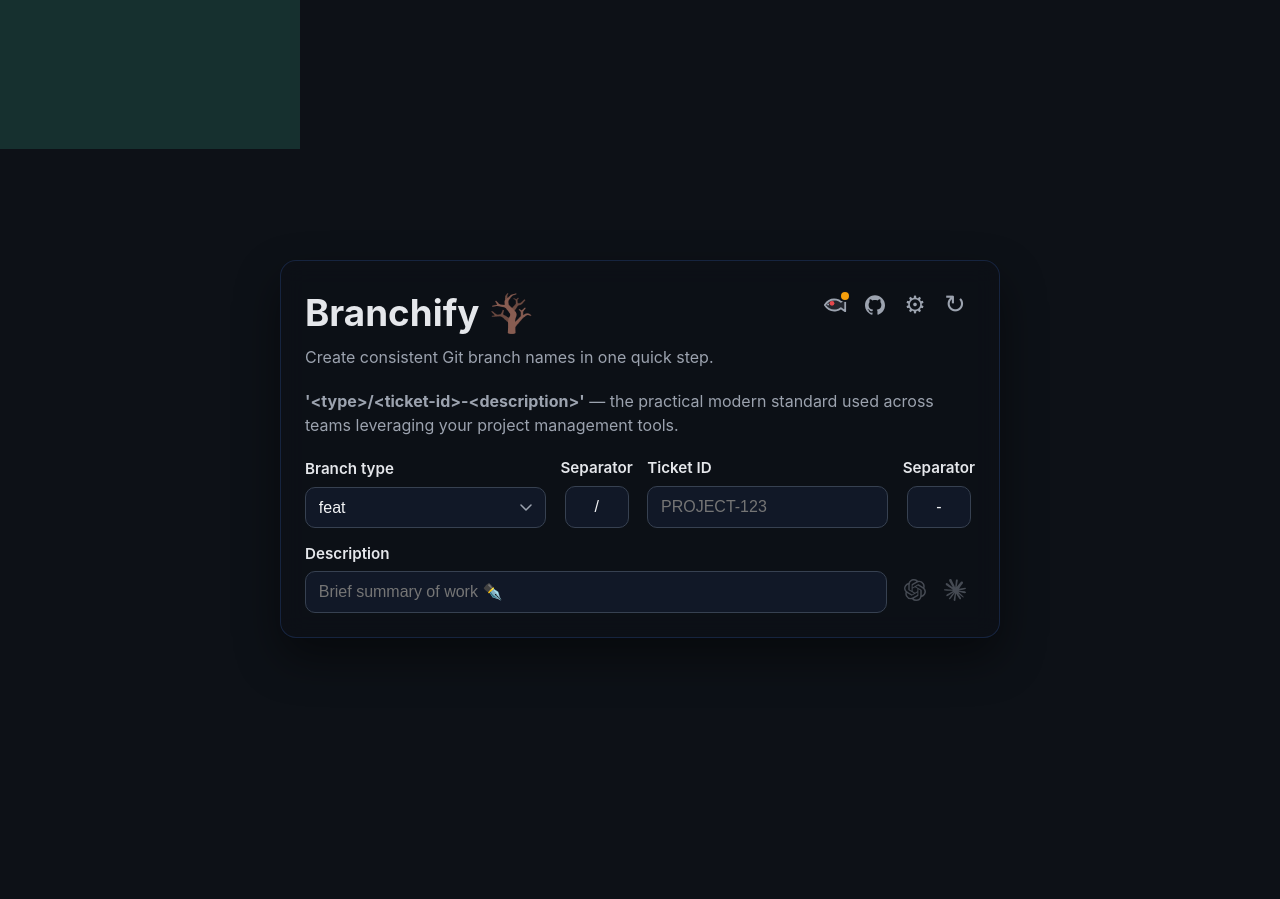
Scenario: App › loading recent branches › restores the separators used when the branch was saved
Replace the text in the 1st field labelled "Separator" with "_" at (597, 507), box [565,486,629,528]
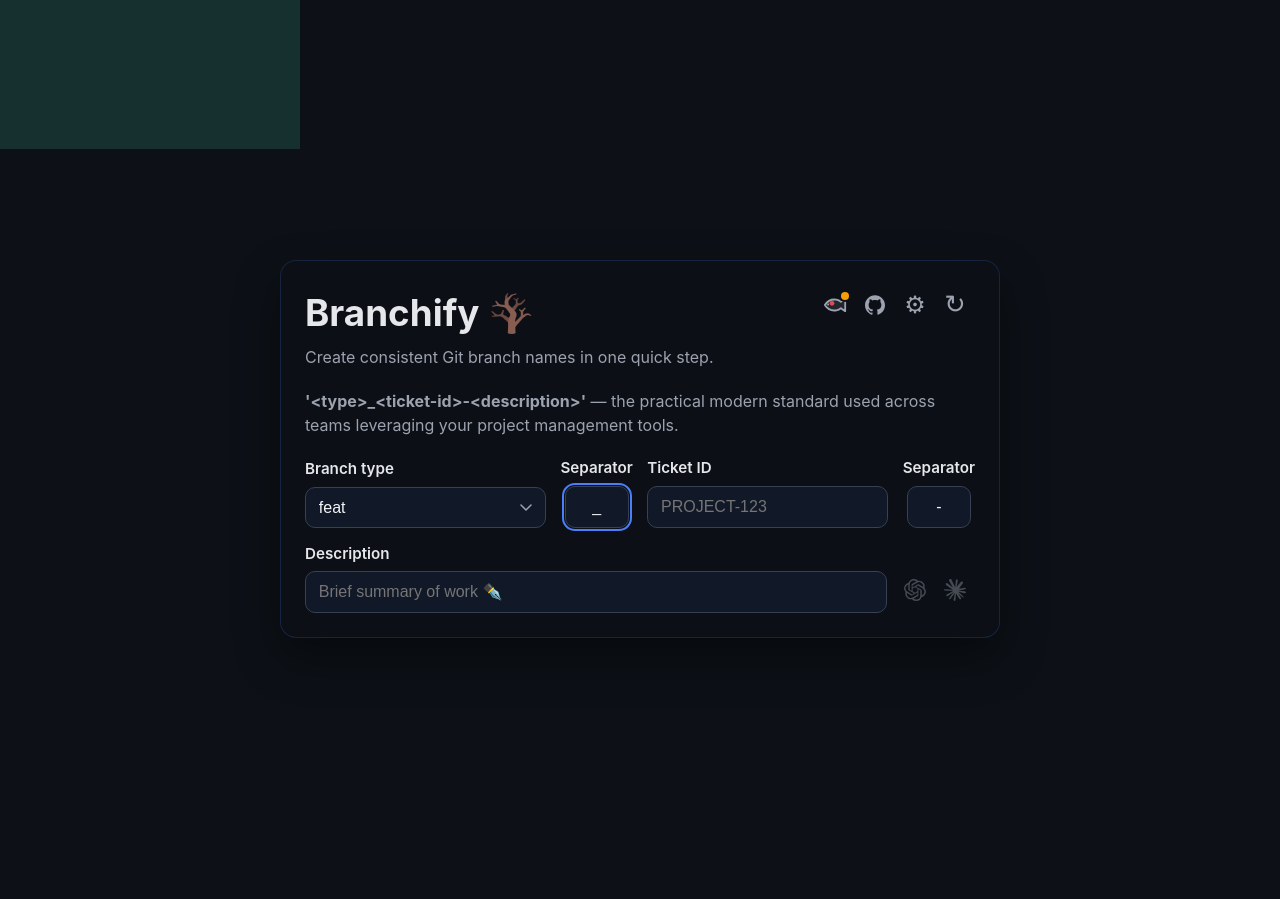
Type "Some work" into the field labelled "Description".
click(596, 592); type("Some work")  # box [305,571,887,613]
Wait 300000 ms
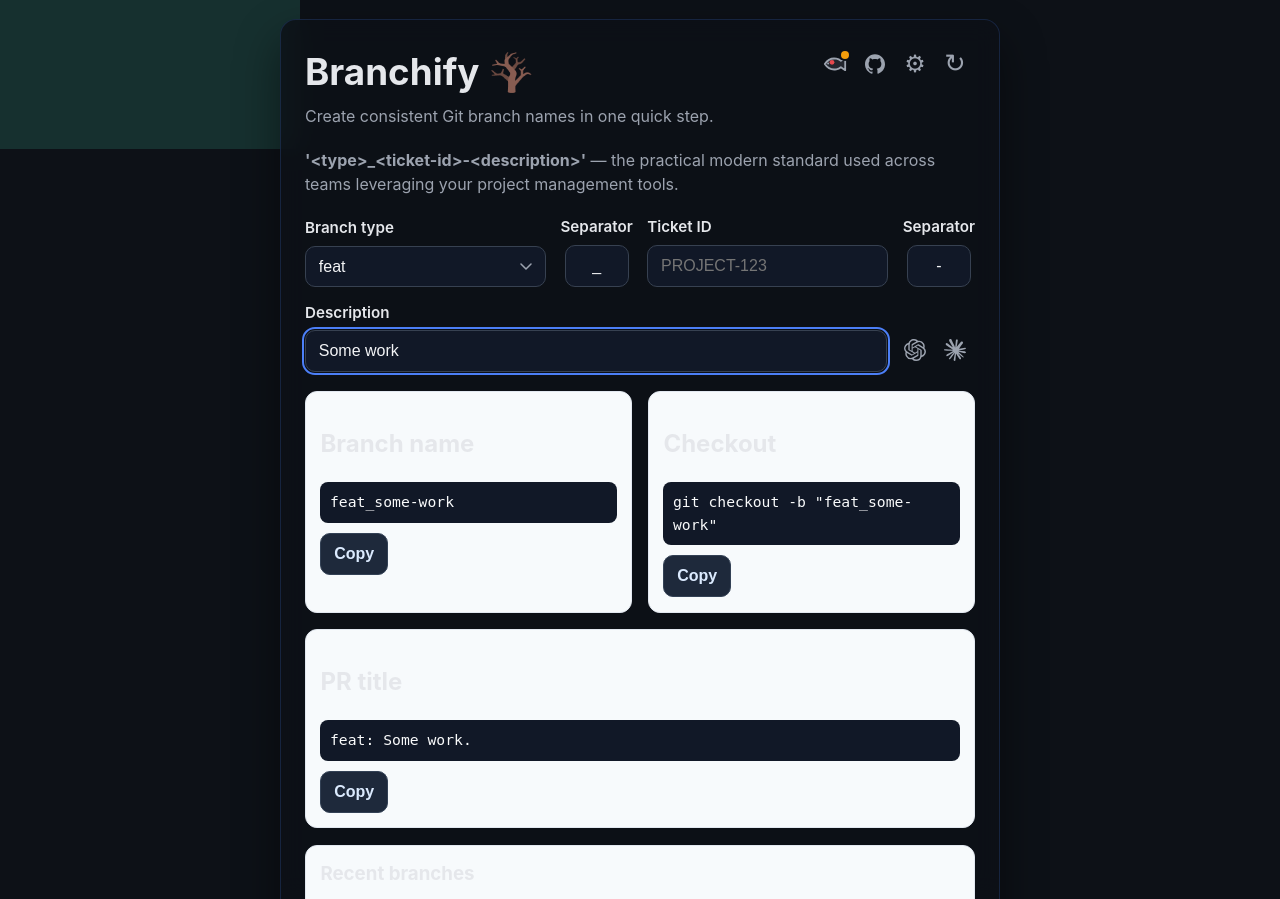
Replace the text in the 1st field labelled "Separator" with "/" at (597, 266), box [565,245,629,288]
(page scrolled)
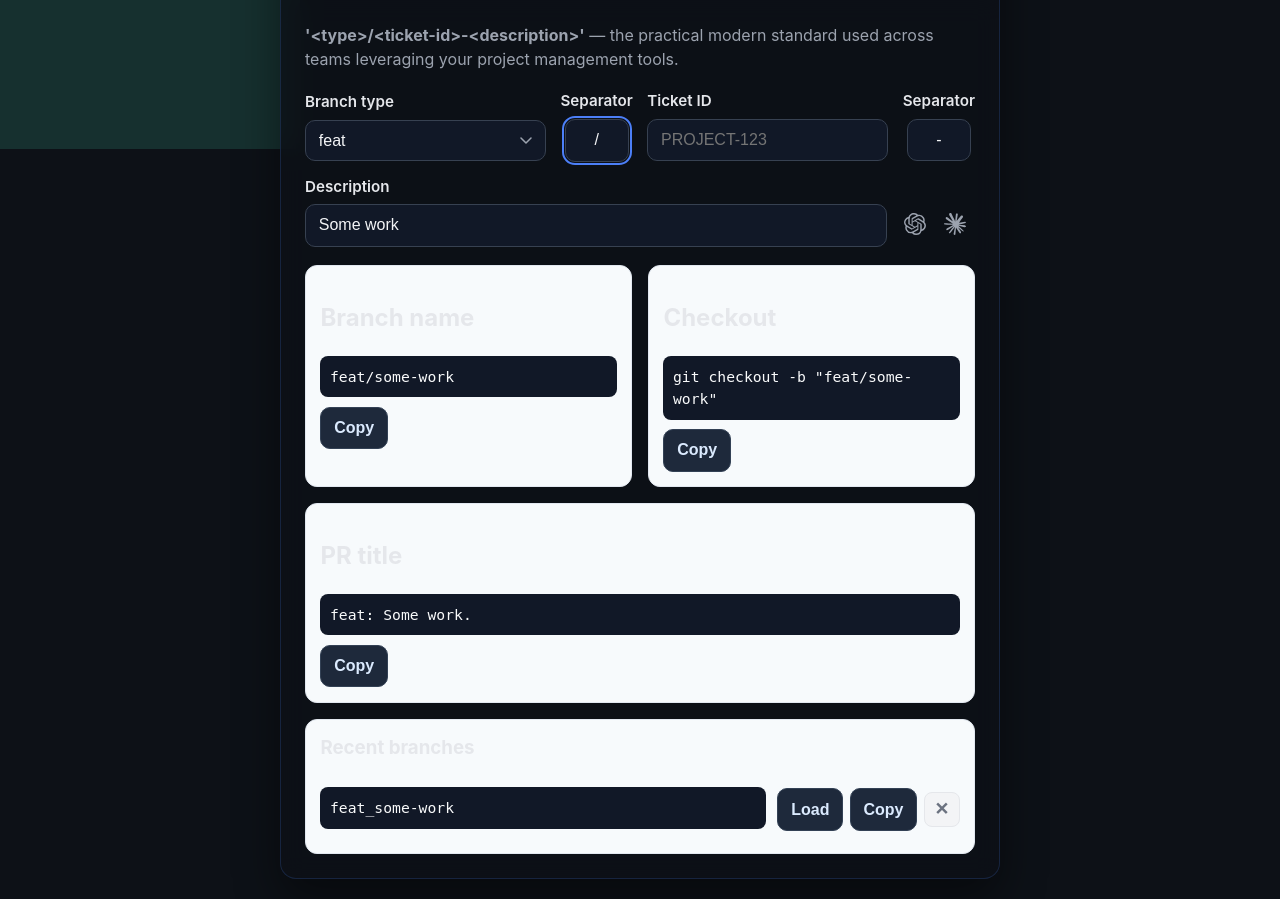
Click the button with aria-label "Load feat_some-work".
click(810, 810)  # box [778,788,843,831]
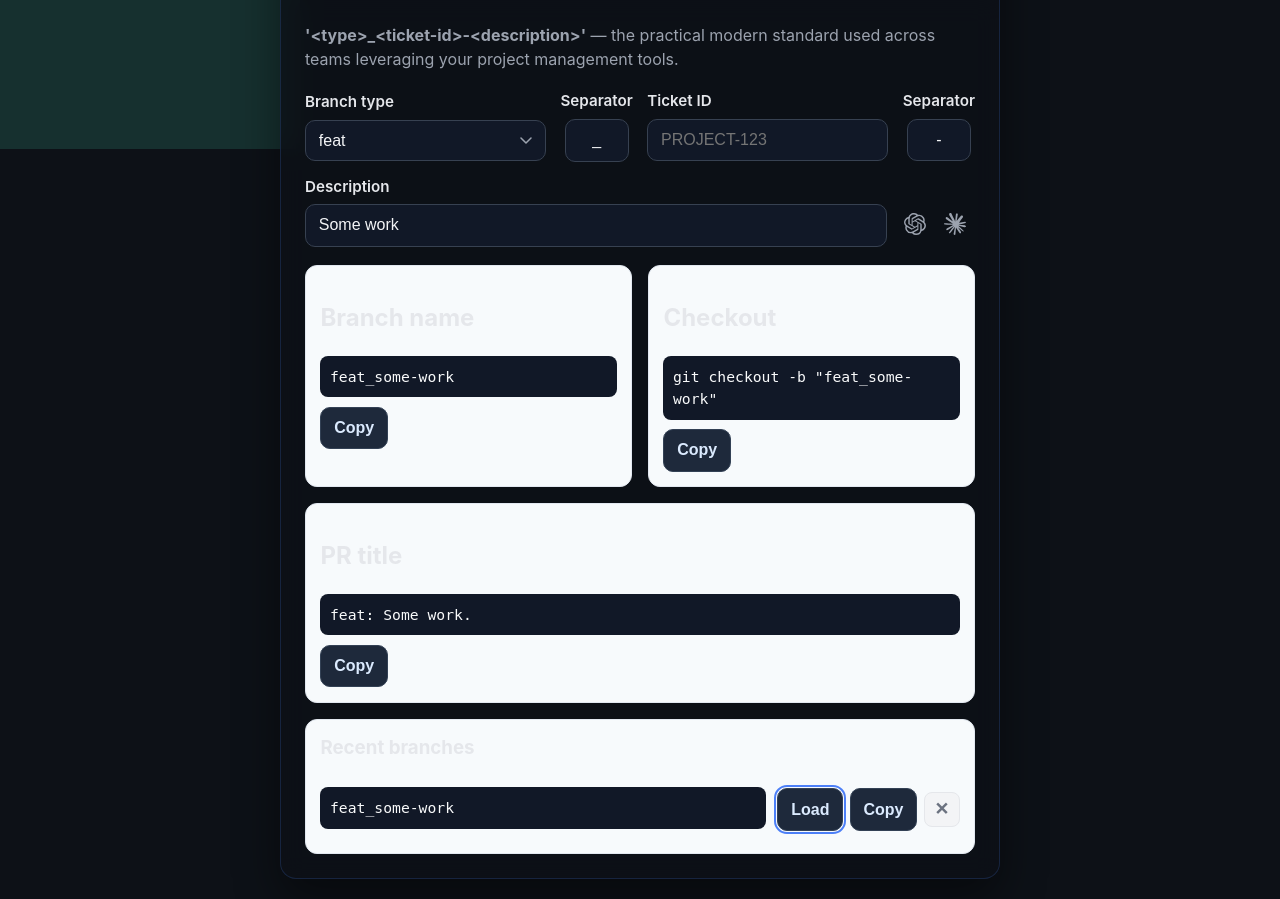
Check: the text "git checkout -b \"feat_some-work\"" is shown, box [663,356,960,420]
